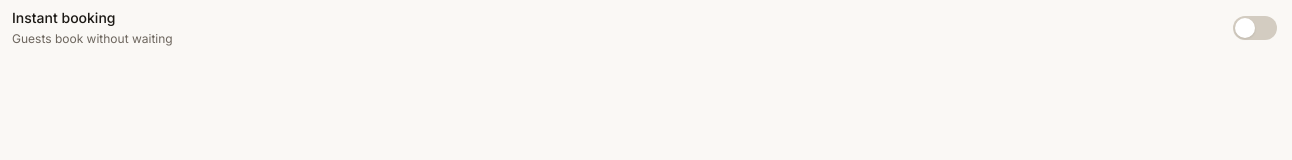
Test: Switch › is a labelled switch that toggles with click and keyboard
Later steps or results of the test are not shown.
Click the switch named "Instant booking" at x=1255, y=28, box [1233,16,1277,40]
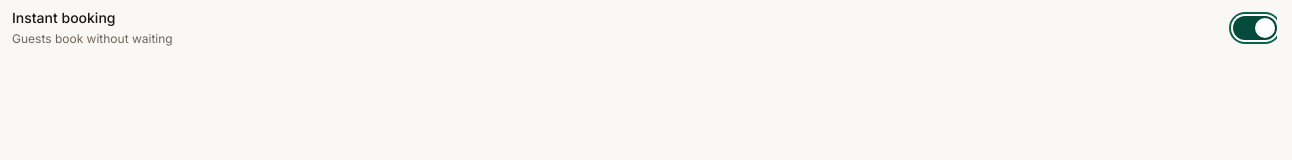
expect the switch named "Instant booking" is checked: met, box [1233,16,1277,40]
